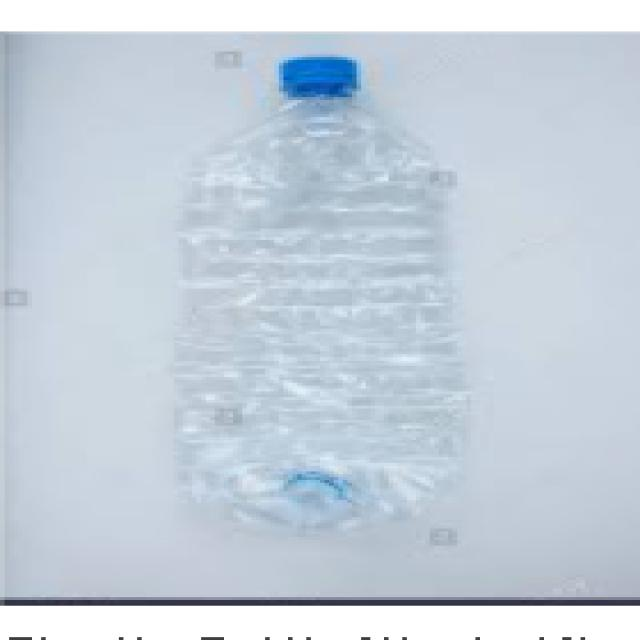plasticbottle: (226, 68, 463, 544)
